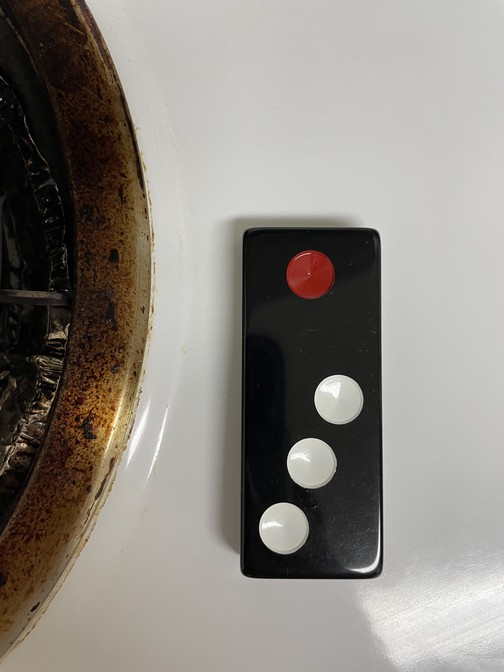goose: (242, 230, 384, 581)
